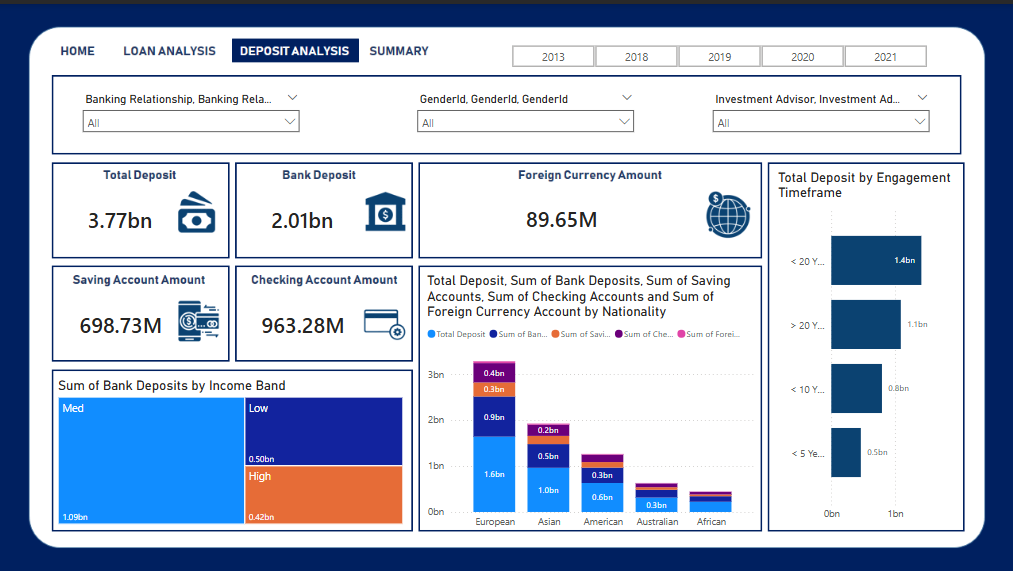

The dashboard page shown, as its layout file describes it:
{"tool":"powerbi","page":{"name":"Deposit Analysis","canvas":[1280,720],"ordinal":2},"visuals":[{"type":"card","fields":{"Values":["banking_case customer.Total Deposit"]},"box":[73.7,226.8,162.5,90.7],"z":0},{"type":"card","fields":{"Values":["Sum(banking_case customer.Bank Deposits)"]},"box":[304.3,226.8,160.6,90.7],"z":1000},{"type":"card","fields":{"Values":["Sum(banking_case customer.Saving Accounts)"]},"box":[75.6,359.1,160.6,90.7],"z":2000},{"type":"card","fields":{"Values":["Sum(banking_case customer.Checking Accounts)"]},"box":[304.3,359.1,162.5,90.7],"z":3000},{"type":"treemap","fields":{"Group":["banking_case customer.Income Band"],"Values":["Sum(banking_case customer.Bank Deposits)"]},"box":[72.7,470.2,444.4,190],"z":4000},{"type":"card","fields":{"Values":["Sum(banking_case customer.Foreign Currency Account)"]},"box":[537.1,227.5,349.4,89.1],"z":5000},{"type":"columnChart","fields":{"Category":["banking_case customer.Nationality"],"Y":["banking_case customer.Total Deposit","Sum(banking_case customer.Bank Deposits)","Sum(banking_case customer.Saving Accounts)","Sum(banking_case customer.Checking Accounts)","Sum(banking_case customer.Foreign Currency Account)"]},"box":[537.1,338.9,423.3,331.9],"z":6000},{"type":"clusteredBarChart","fields":{"Category":["banking_case customer.Engagement Timeframe"],"Y":["banking_case customer.Total Deposit"]},"box":[978,207.6,234.5,452.6],"z":7000},{"type":"slicer","fields":{"Values":["banking_case customer.IAId","banking_case customer.IAId","banking_case customer.IAId"]},"box":[891.3,105.2,292.9,75.7],"z":8000},{"type":"slicer","fields":{"Values":["banking_case customer.GenderId","banking_case customer.GenderId","banking_case customer.GenderId"]},"box":[518.9,105.2,292.9,75.7],"z":9000},{"type":"slicer","fields":{"Values":["banking_case customer.Banking Relationship","banking_case customer.Banking Relationship","banking_case customer.Banking Relationship"]},"box":[98.5,105.2,292.9,75.7],"z":10000},{"type":"actionButton","box":[64.3,39.7,69.9,39.7],"z":11000},{"type":"actionButton","box":[155,39.7,120.9,39.7],"z":12000},{"type":"actionButton","box":[466.8,39.7,83.2,39.7],"z":13000},{"type":"slicer","fields":{"Values":["banking_case customer.Year of Joining"]},"box":[623.8,46,571.4,38.1],"z":14000}]}

Visuals, with their boxes in screenshot pixels (x1, y1, x2, y2), scaled from the page's 1280x720 canvas onto the 1013x571 screenshot:
card - banking_case customer.Total Deposit: detection(58, 180, 187, 252)
card - Sum(banking_case customer.Bank Deposits): detection(241, 180, 368, 252)
card - Sum(banking_case customer.Saving Accounts): detection(60, 285, 187, 357)
card - Sum(banking_case customer.Checking Accounts): detection(241, 285, 369, 357)
treemap - banking_case customer.Income Band x Sum(banking_case customer.Bank Deposits): detection(58, 373, 409, 524)
card - Sum(banking_case customer.Foreign Currency Account): detection(425, 180, 702, 251)
columnChart - banking_case customer.Nationality x banking_case customer.Total Deposit: detection(425, 269, 760, 532)
clusteredBarChart - banking_case customer.Engagement Timeframe x banking_case customer.Total Deposit: detection(774, 165, 960, 524)
slicer - banking_case customer.IAId x banking_case customer.IAId: detection(705, 83, 937, 143)
slicer - banking_case customer.GenderId x banking_case customer.GenderId: detection(411, 83, 642, 143)
slicer - banking_case customer.Banking Relationship x banking_case customer.Banking Relationship: detection(78, 83, 310, 143)
actionButton: detection(51, 31, 106, 63)
actionButton: detection(123, 31, 218, 63)
actionButton: detection(369, 31, 435, 63)
slicer - banking_case customer.Year of Joining: detection(494, 36, 946, 67)
